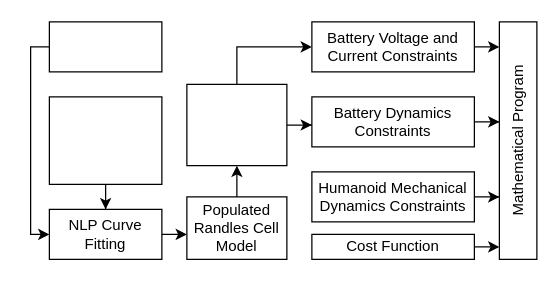
The diagram is 559 pixels wide and 281 high, and some of its shapes have lost their labels. Each missing label, with the centre of its shape:
Battery Cell EIS Testing Data: the point at 105,46
Battery Discrete Dynamics Equations: the point at 236,124
Non-Linear Randles Equivalent Circuit Model: the point at 105,140
